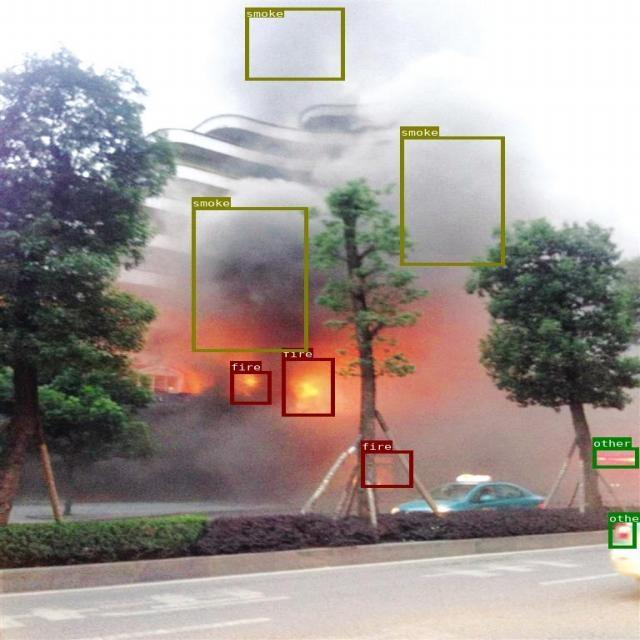fire: (281, 357, 334, 416), (361, 450, 413, 487), (230, 371, 271, 404)
smoke: (191, 207, 307, 351), (399, 136, 504, 265), (245, 7, 344, 80)
